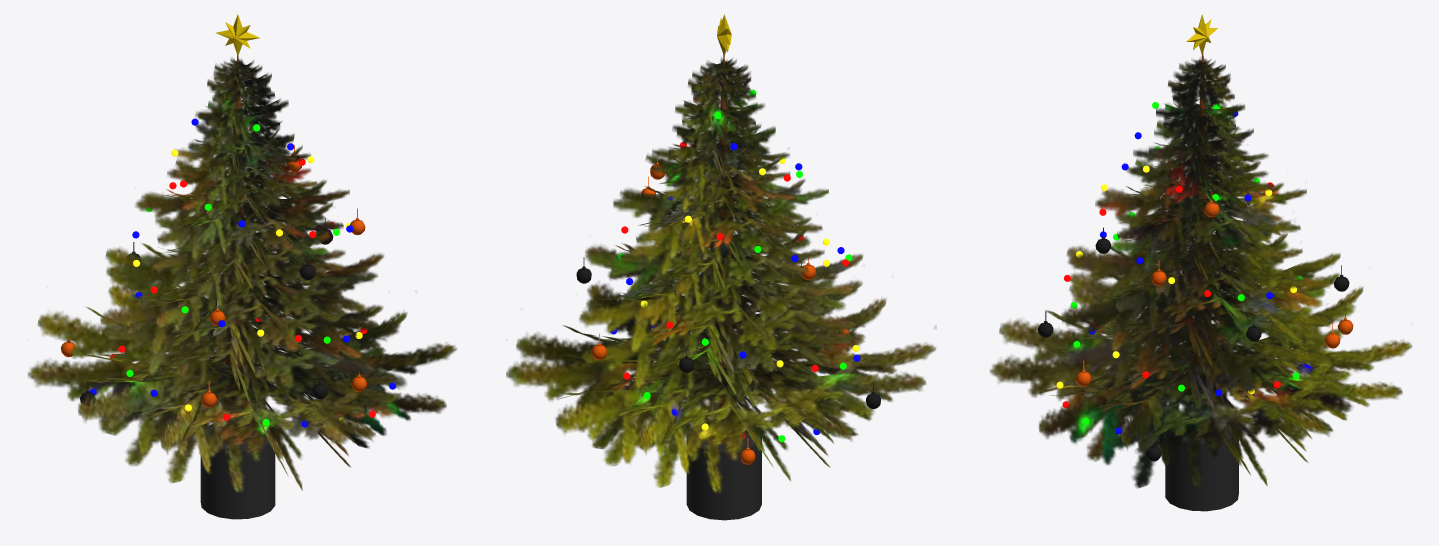
The model's file is christmas-tree-50bcb465.glb.
3 views of the same model, side by side, from view 1: azimuth 30°, elevation 25°; view 2: azimuth 150°, elevation 25°; view 3: azimuth 270°, elevation 25° (orthographic).
Parts seen in each view (by area): view 1: Leaf, Pot, bulb, Lights01, Lights02, trunk, Star; view 2: Leaf, Pot, bulb, trunk, Lights01, Lights02; view 3: Leaf, Pot, bulb, Lights02, Lights01, trunk.
Part boxes in pixels (left/top/right/bottom): Leaf: left=27, top=58, right=456, bottom=493; Pot: left=200, top=424, right=275, bottom=519; bulb: left=61, top=145, right=367, bottom=407; Lights01: left=118, top=100, right=396, bottom=427; Lights02: left=89, top=124, right=367, bottom=395; trunk: left=224, top=54, right=252, bottom=442; Star: left=215, top=14, right=259, bottom=55; Leaf: left=506, top=57, right=936, bottom=493; Pot: left=686, top=425, right=761, bottom=520; bulb: left=576, top=155, right=880, bottom=464; trunk: left=714, top=53, right=735, bottom=444; Lights01: left=618, top=112, right=860, bottom=371; Lights02: left=610, top=89, right=852, bottom=442; Leaf: left=990, top=57, right=1411, bottom=488; Pot: left=1165, top=426, right=1238, bottom=511; bulb: left=1038, top=191, right=1353, bottom=461; Lights02: left=1064, top=102, right=1311, bottom=396; Lights01: left=1056, top=104, right=1307, bottom=434; trunk: left=1194, top=53, right=1212, bottom=437.
Bounding box in the file's own units: 1.67 × 1.97 × 1.66.
10 materials, 1 textured.
